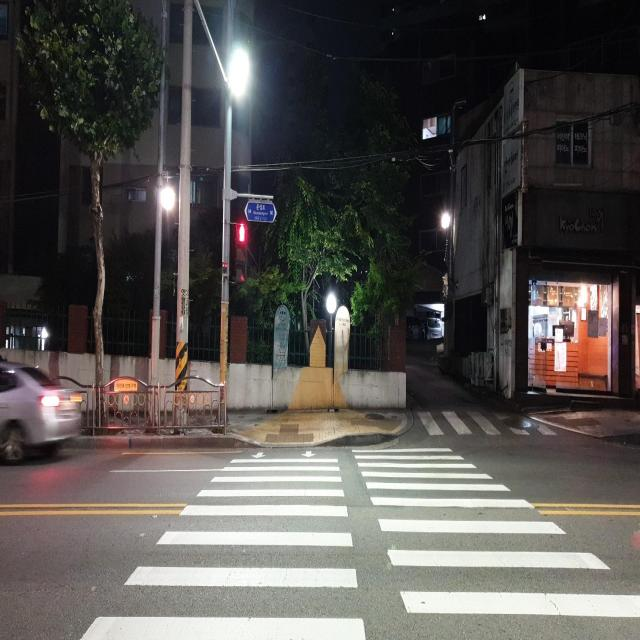빨간불: (234, 222, 248, 282)
횡단보도: (80, 449, 640, 639), (414, 403, 566, 432)
